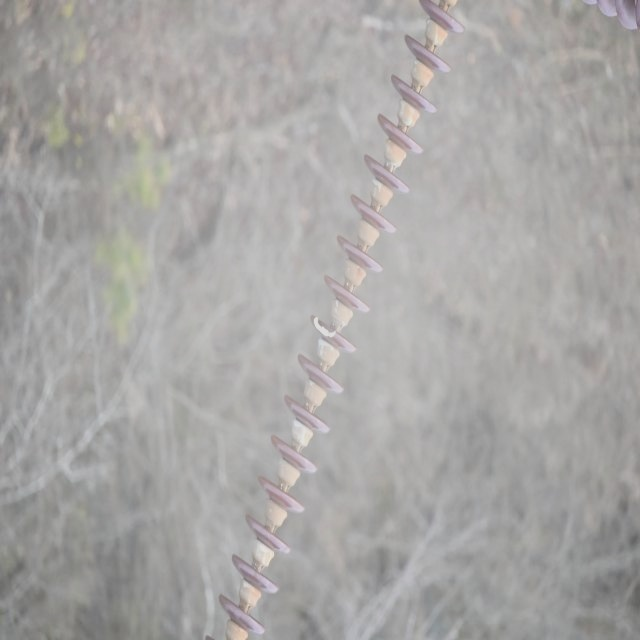broken: (310, 315, 341, 342)
insulator: (209, 0, 464, 640)
